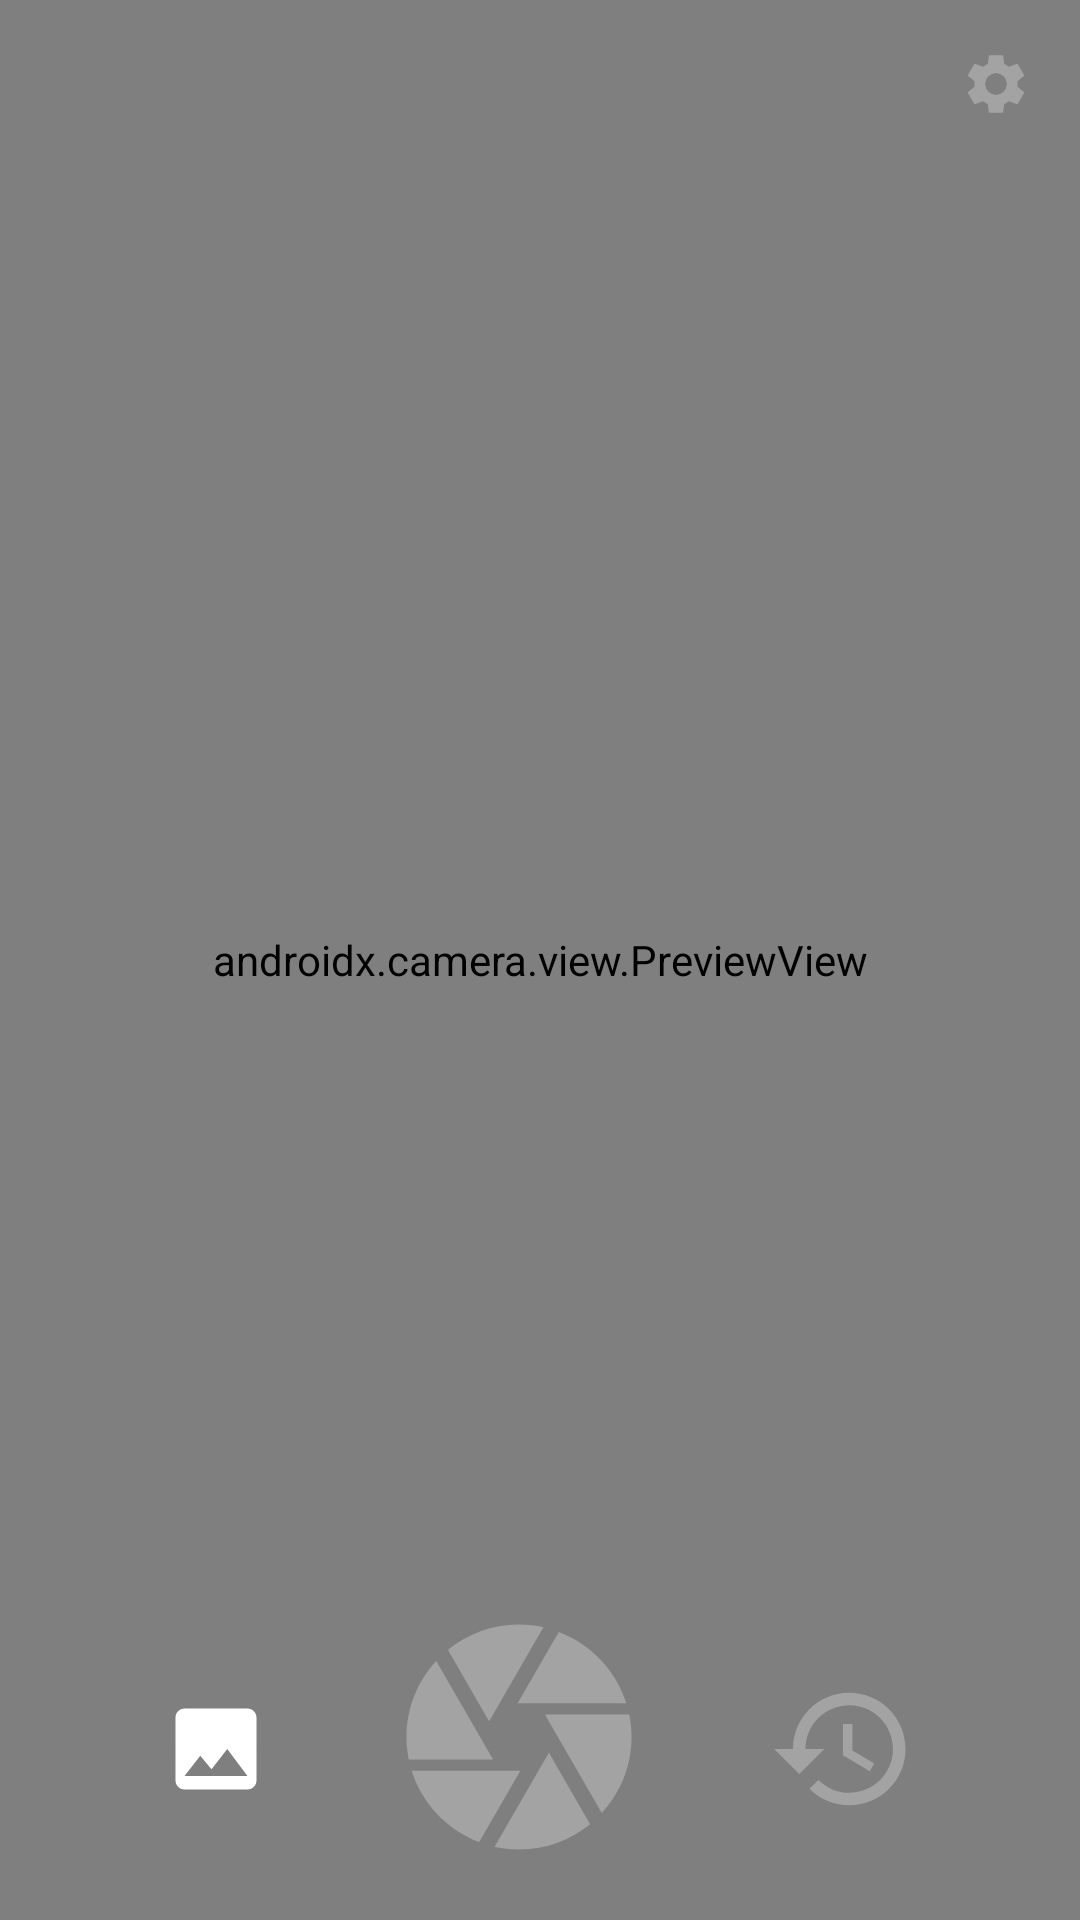

Where to tap for icons on this 1080w x 1920h app screen, as (x,y):
history: (840,1749)
settings: (996,84)
